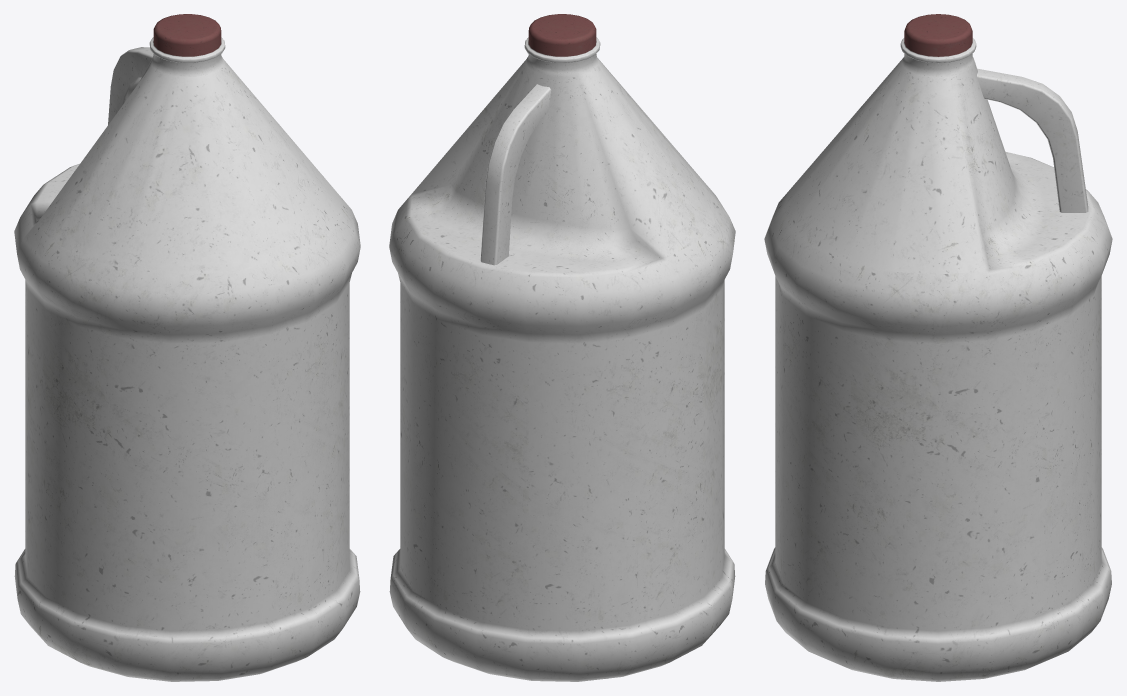
Rendered from SM_Bottle_Medium.glb.
3 renders of one model, left to right at view 1: azimuth 30°, elevation 25°; view 2: azimuth 150°, elevation 25°; view 3: azimuth 270°, elevation 25°, orthographic.
Visible parts, largest first — view 1: SM_Bottle_Medium; view 2: SM_Bottle_Medium; view 3: SM_Bottle_Medium.
Boxes of the visible parts, left/top/right/bottom form: SM_Bottle_Medium: left=14, top=14, right=360, bottom=681; SM_Bottle_Medium: left=389, top=14, right=735, bottom=681; SM_Bottle_Medium: left=764, top=14, right=1112, bottom=681.
Size of the model in its own units: 0.1655 by 0.3126 by 0.1655.
2 materials, 2 textured.
